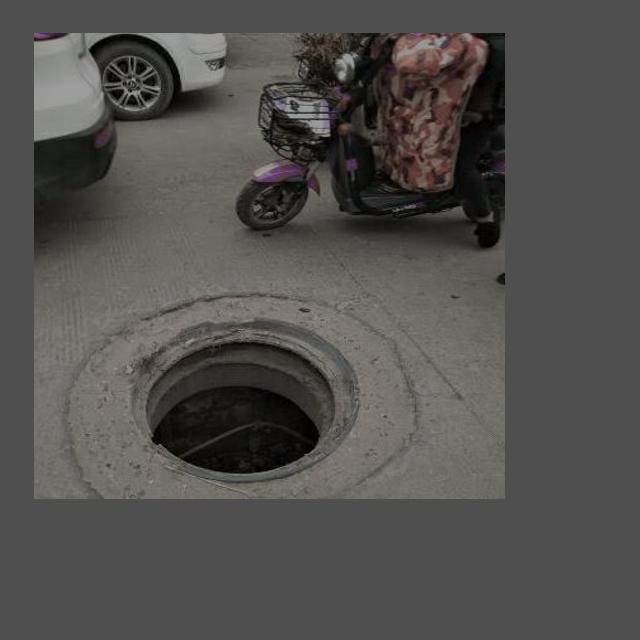lose: (128, 314, 360, 480)
